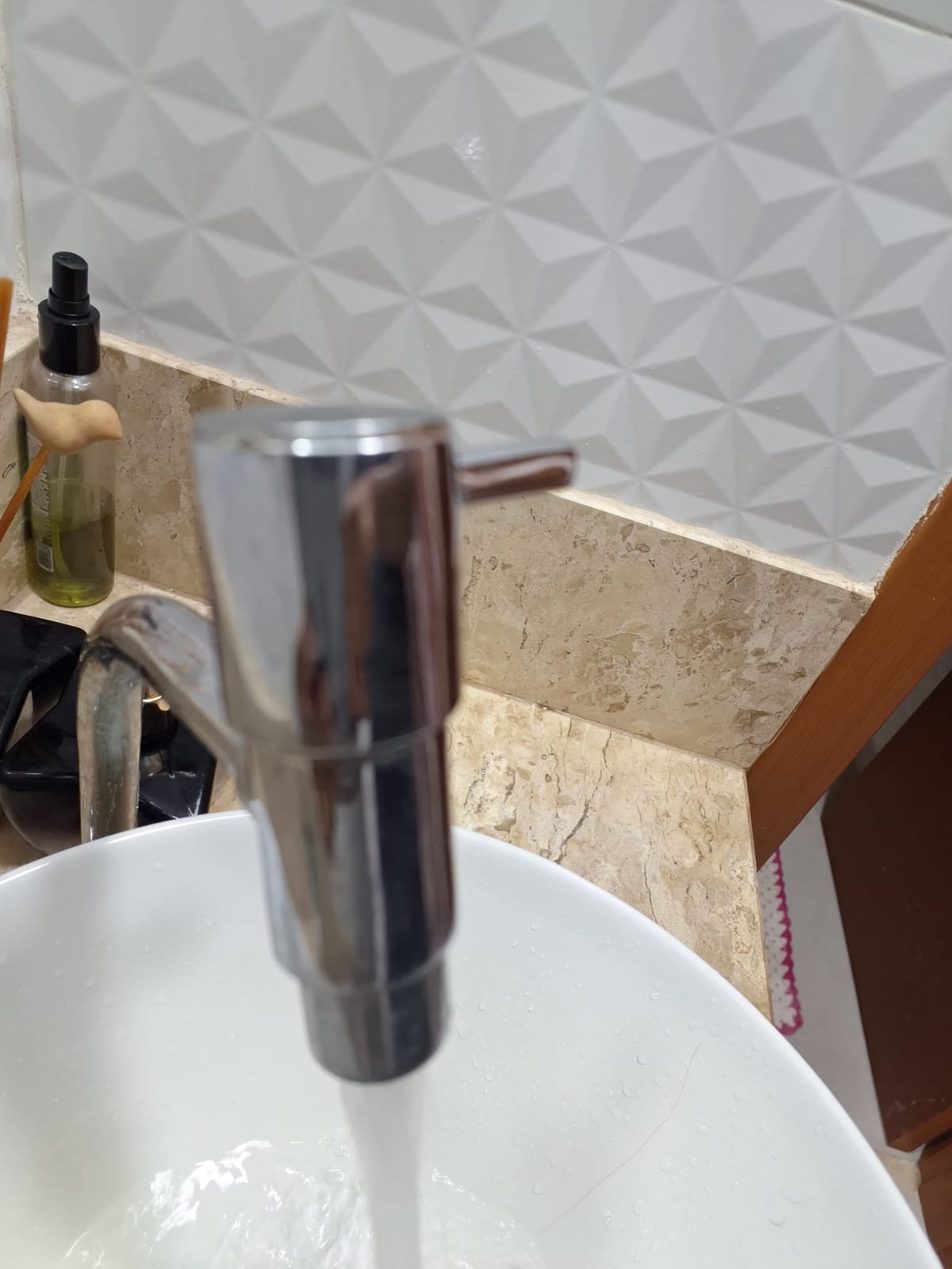torneira_aberta: (131, 380, 604, 1263)
